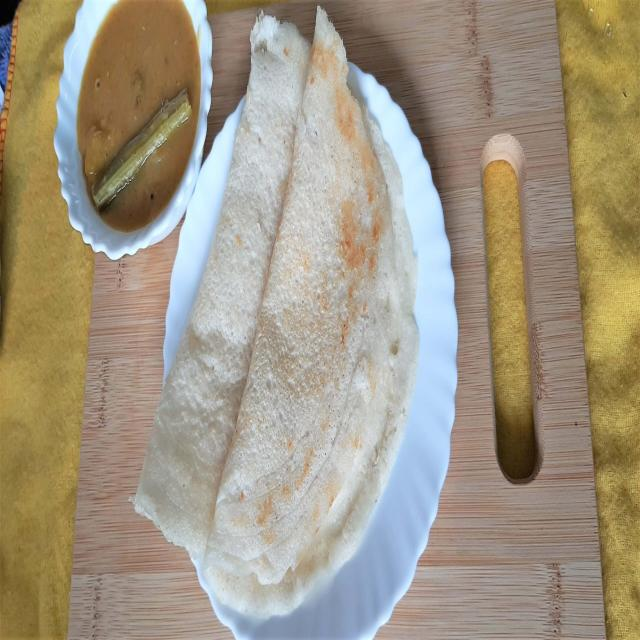plain dosa: (202, 7, 420, 614), (132, 6, 314, 566)
